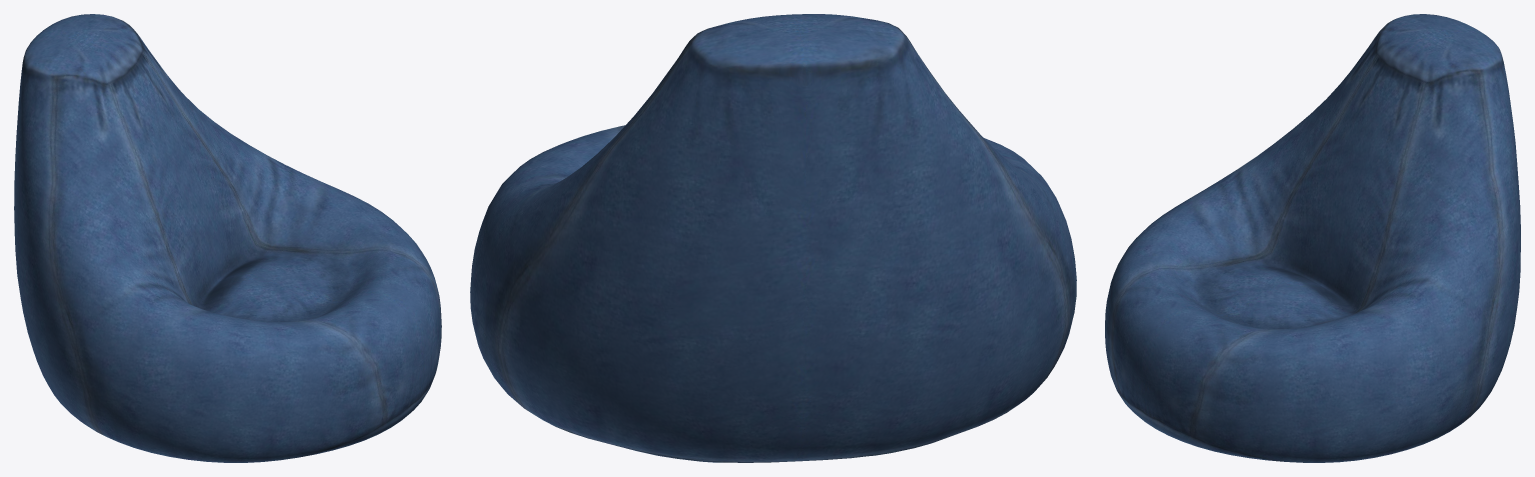
Rendered from Puff.obj.
3 views of the same model, side by side, from view 1: azimuth 30°, elevation 25°; view 2: azimuth 150°, elevation 25°; view 3: azimuth 270°, elevation 25° (orthographic). The views are drawn at different scales.
Visible parts, largest first — view 1: Puff; view 2: Puff; view 3: Puff.
Part boxes in pixels (box(x1,y1,x2,y2)): Puff: box(14, 14, 441, 462); Puff: box(470, 14, 1076, 462); Puff: box(1105, 14, 1520, 462).
Size of the model in its own units: 2.89 by 2.38 by 2.88.
Materials: 1 (1 with a texture image).
